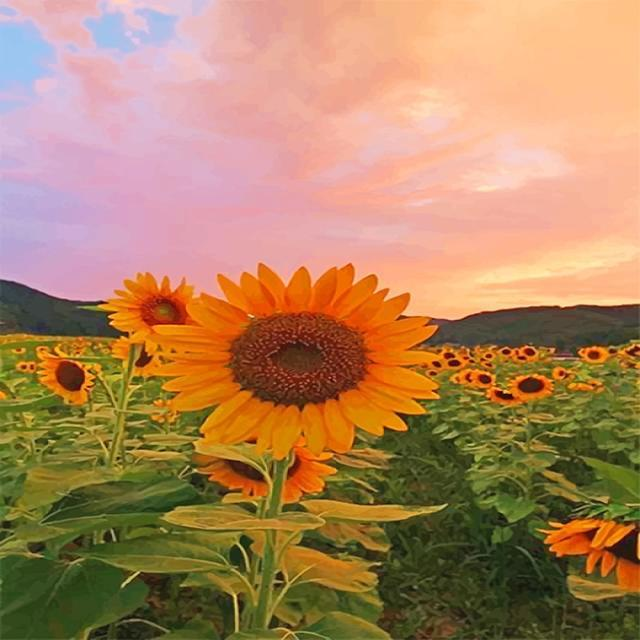sunflower: (145, 261, 442, 459), (190, 433, 338, 504), (97, 271, 197, 356), (534, 517, 639, 592), (34, 344, 96, 406), (111, 328, 164, 378), (508, 372, 553, 402), (484, 385, 522, 407), (150, 398, 180, 423), (469, 368, 496, 389), (582, 346, 610, 364), (618, 343, 640, 358), (460, 368, 478, 386), (519, 345, 539, 360), (437, 348, 458, 361), (551, 366, 566, 382), (445, 358, 465, 370), (568, 382, 594, 391), (588, 378, 603, 392), (16, 362, 30, 374), (620, 360, 640, 368), (428, 360, 444, 370), (448, 373, 461, 383), (27, 361, 37, 374), (424, 369, 440, 377), (499, 348, 513, 357), (514, 355, 528, 363), (12, 346, 26, 354), (36, 346, 50, 354), (483, 352, 496, 360), (483, 361, 495, 368), (512, 348, 522, 356), (462, 354, 472, 361), (578, 348, 586, 356), (467, 357, 476, 364), (73, 350, 82, 356), (479, 357, 487, 362)
